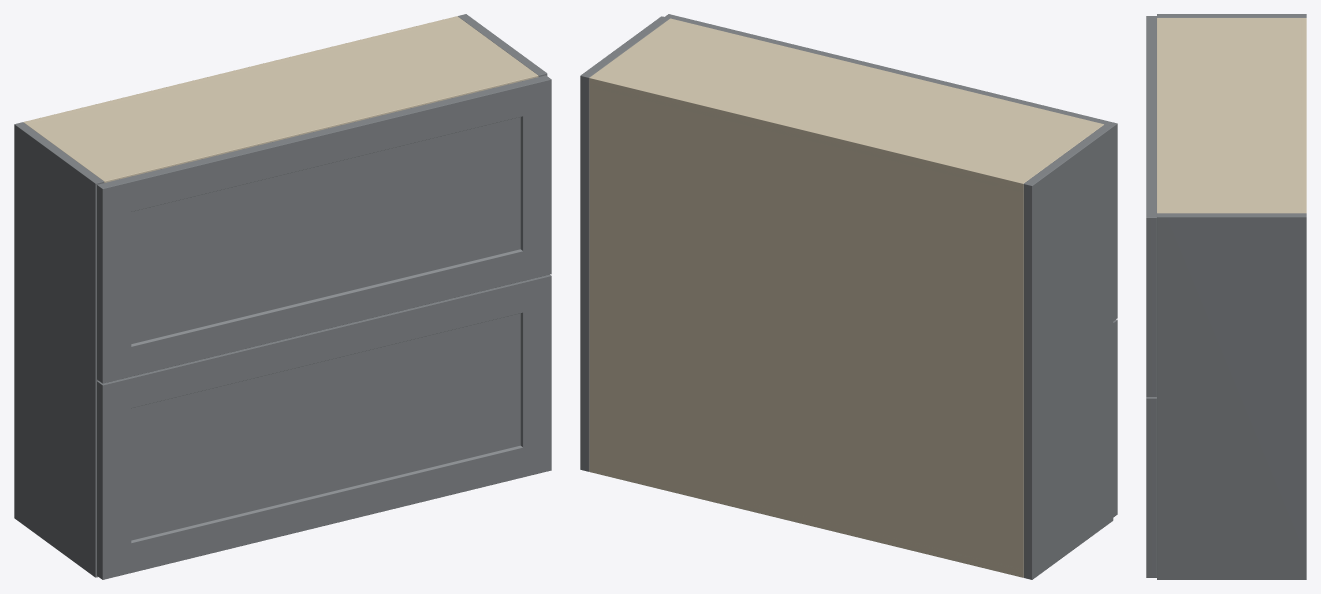
Rendered from oppein-ply-gss-wbf3630.glb.
3 renders of one model, left to right at view 1: azimuth 30°, elevation 25°; view 2: azimuth 150°, elevation 25°; view 3: azimuth 270°, elevation 25°, orthographic. The views are drawn at different scales.
Visible parts, largest first — view 1: Door.001, Door, Cabinet top, Cabinet side, Cabinet back, Cabinet side.001; view 2: Cabinet back, Cabinet top, Cabinet side, Cabinet side.001, Door.001, Cabinet bottom, Door; view 3: Cabinet side.001, Cabinet top, Door.001, Door, Cabinet back, Cabinet side.
Part boxes in pixels (<box>): Door.001: <box>97,75,551,383</box>; Door: <box>97,274,551,579</box>; Cabinet top: <box>23,18,538,182</box>; Cabinet side: <box>14,122,104,577</box>; Cabinet back: <box>24,16,459,124</box>; Cabinet side.001: <box>458,14,547,76</box>; Cabinet back: <box>589,75,1026,577</box>; Cabinet top: <box>589,18,1103,192</box>; Cabinet side: <box>1023,124,1113,579</box>; Cabinet side.001: <box>580,16,669,471</box>; Door.001: <box>665,14,1117,320</box>; Cabinet bottom: <box>589,467,1023,577</box>; Door: <box>1113,319,1117,517</box>; Cabinet side.001: <box>1157,213,1306,579</box>; Cabinet top: <box>1157,18,1306,213</box>; Door.001: <box>1146,16,1156,396</box>; Door: <box>1146,397,1156,577</box>; Cabinet back: <box>1300,18,1306,213</box>; Cabinet side: <box>1157,14,1306,17</box>.
Size of the model in its own units: 0.9144 by 0.762 by 0.3048.
